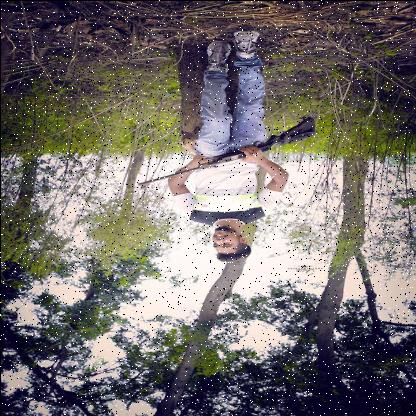rifle: (135, 115, 317, 190)
